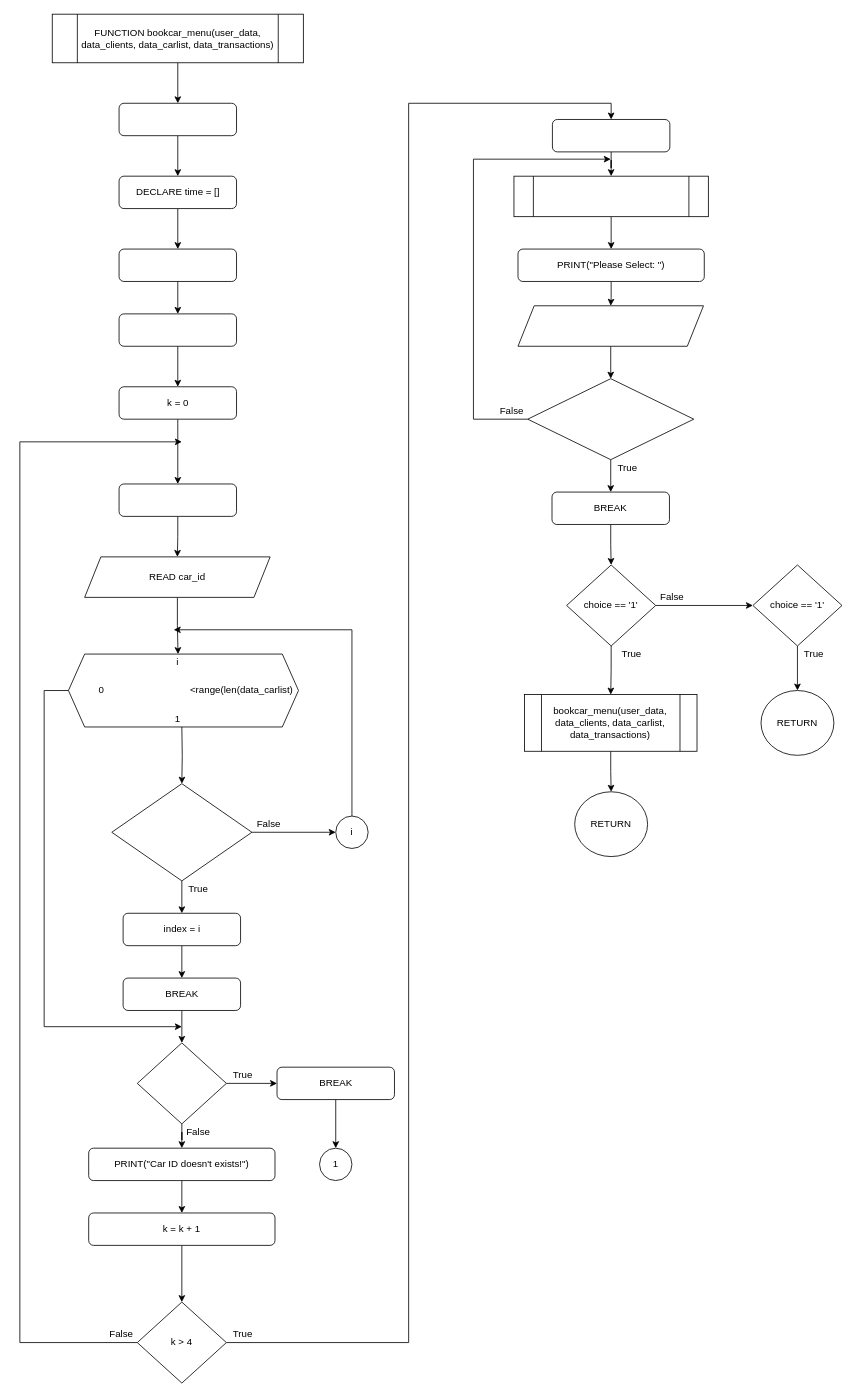
The diagram is 856 pixels wide and 1397 high, and some of its shapes have lost their labels. Each missing label, with the centre of its shape:
car_id == data_carlist[i][0]: the point at 181,832
choice == '1' OR choice == '2': the point at 610,419
DECLARE data = []: the point at 177,119
DECLARE menu = ["Continue","Return"]: the point at 611,135
default.general_menu(menu): the point at 610,196
index = -2: the point at 177,264
index == i: the point at 181,1083
PRINT("Please input the car ID: "): the point at 177,499
READ choice: the point at 610,325
sum = 0: the point at 177,329
